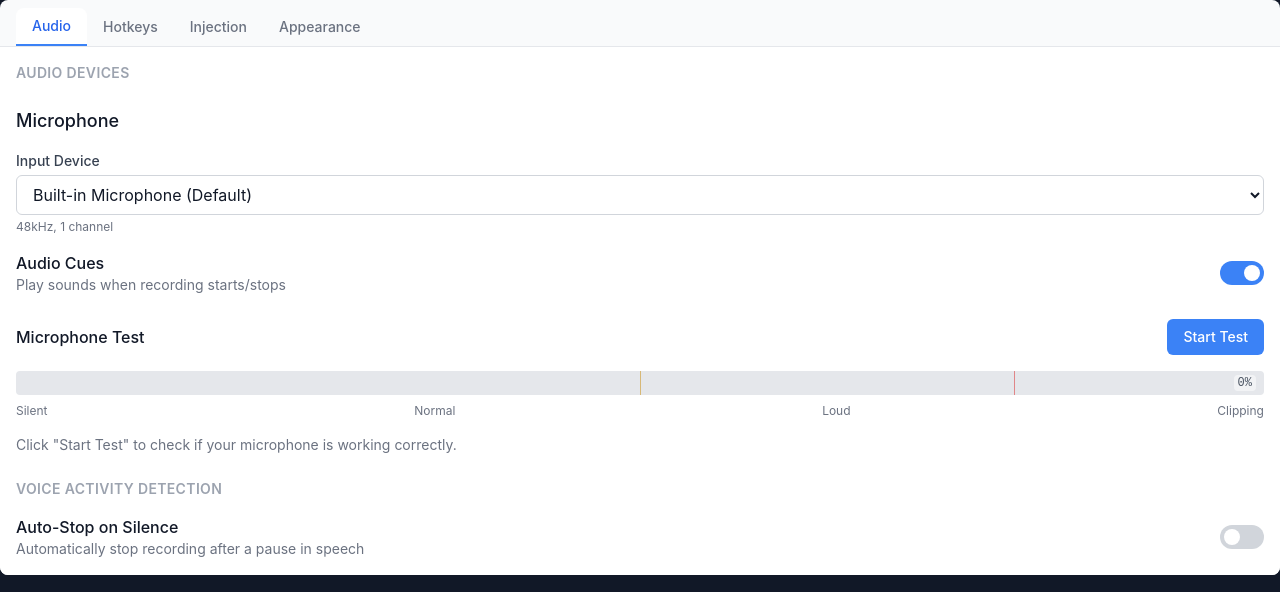
it: SettingsPanel › switches to injection tab
Click the tab "Injection": (218, 27) [174,8,263,46]
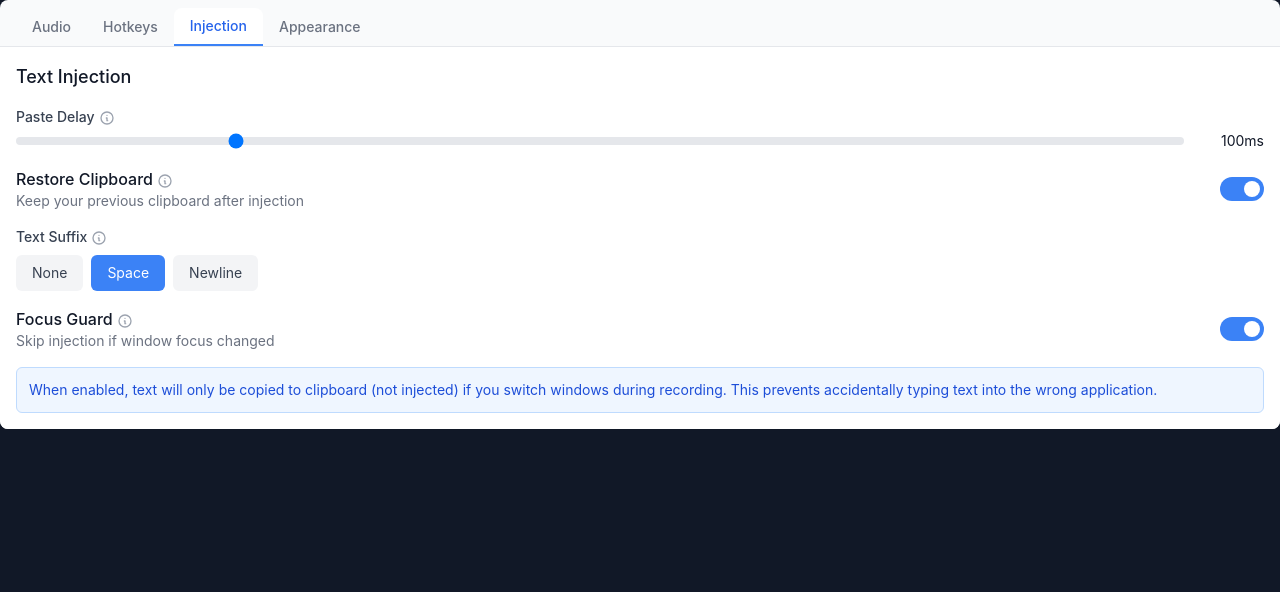
Expected: the heading "Text Injection" is shown, [16,66,131,87]
